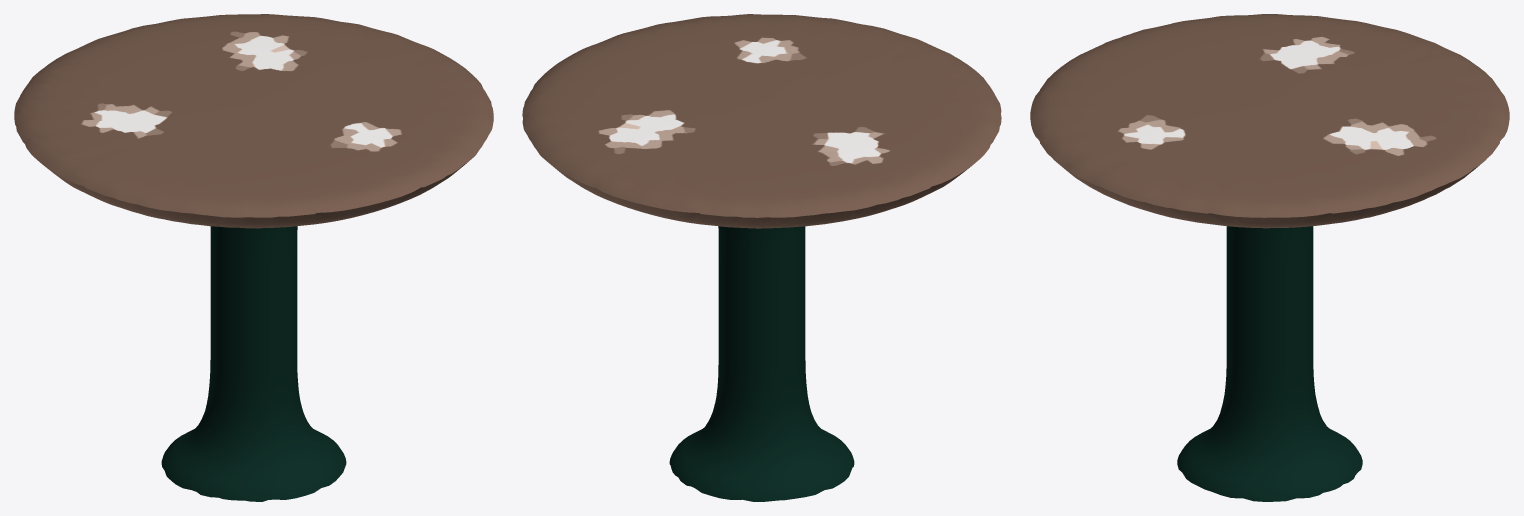
File: Flatshroom.fbx
3 views of the same model, side by side, from view 1: azimuth 30°, elevation 25°; view 2: azimuth 150°, elevation 25°; view 3: azimuth 270°, elevation 25° (orthographic).
Visible parts, largest first — view 1: Flatmush_Top, Flatmush_Stem; view 2: Flatmush_Top, Flatmush_Stem; view 3: Flatmush_Top, Flatmush_Stem.
Part boxes in pixels (bbox=[...]): Flatmush_Top: bbox=[14, 14, 493, 228]; Flatmush_Stem: bbox=[161, 226, 346, 501]; Flatmush_Top: bbox=[522, 14, 1001, 228]; Flatmush_Stem: bbox=[669, 226, 854, 501]; Flatmush_Top: bbox=[1030, 14, 1509, 228]; Flatmush_Stem: bbox=[1177, 226, 1362, 501].
Size of the model in its own units: 1360 by 1133 by 1360.
